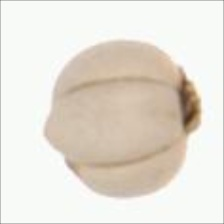L5: (41, 76, 185, 168), (175, 65, 205, 147), (43, 86, 61, 169)
L6: (38, 36, 204, 200)
